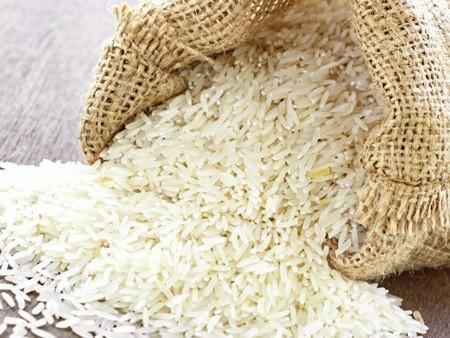WhiteRice: (0, 22, 429, 338)
